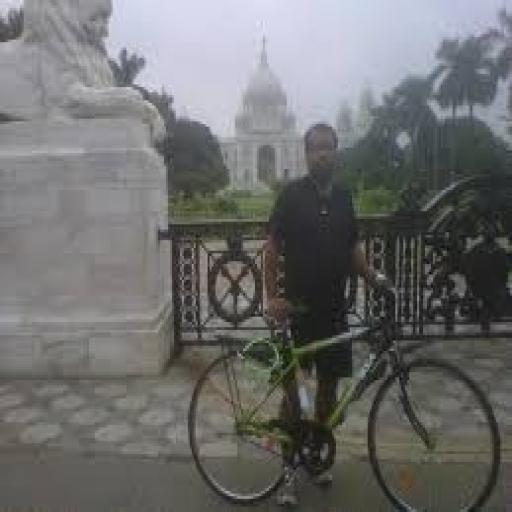cycling: (259, 119, 397, 509)
